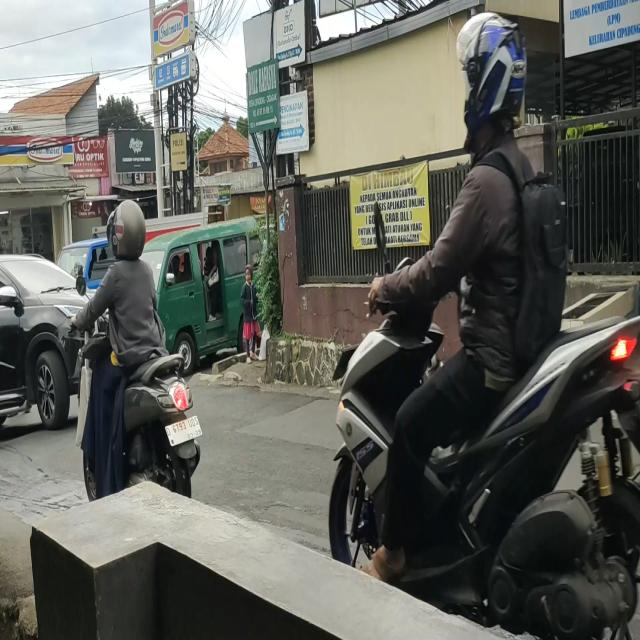helmet: (462, 22, 524, 126), (112, 198, 147, 264)
